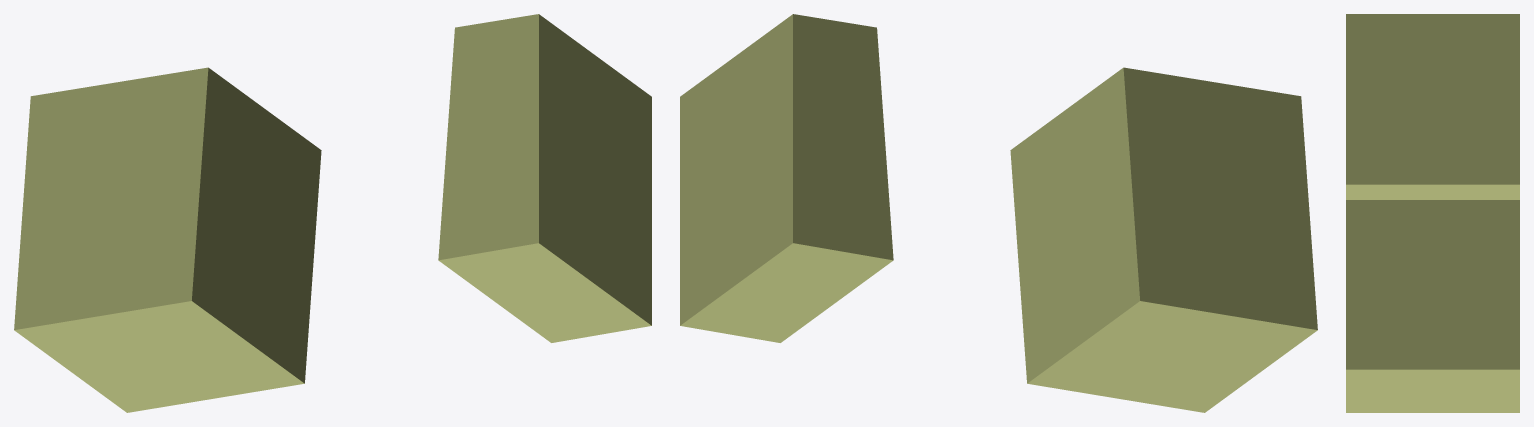
3 renders of one model, left to right at view 1: azimuth 30°, elevation 25°; view 2: azimuth 150°, elevation 25°; view 3: azimuth 270°, elevation 25°, orthographic. The views are drawn at different scales.
Parts seen in each view (by area): view 1: 0_1_3_2_1_1_2_2_0_1; view 2: 0_1_3_2_1_1_2_2_0_1; view 3: 0_1_3_2_1_1_2_2_0_1.
Boxes of the visible parts, box(x1,y1,x2,y2) form: 0_1_3_2_1_1_2_2_0_1: box(14, 14, 651, 412); 0_1_3_2_1_1_2_2_0_1: box(680, 14, 1317, 412); 0_1_3_2_1_1_2_2_0_1: box(1346, 14, 1519, 412).
Size of the model in its own units: 16.08 by 7.93 by 6.
